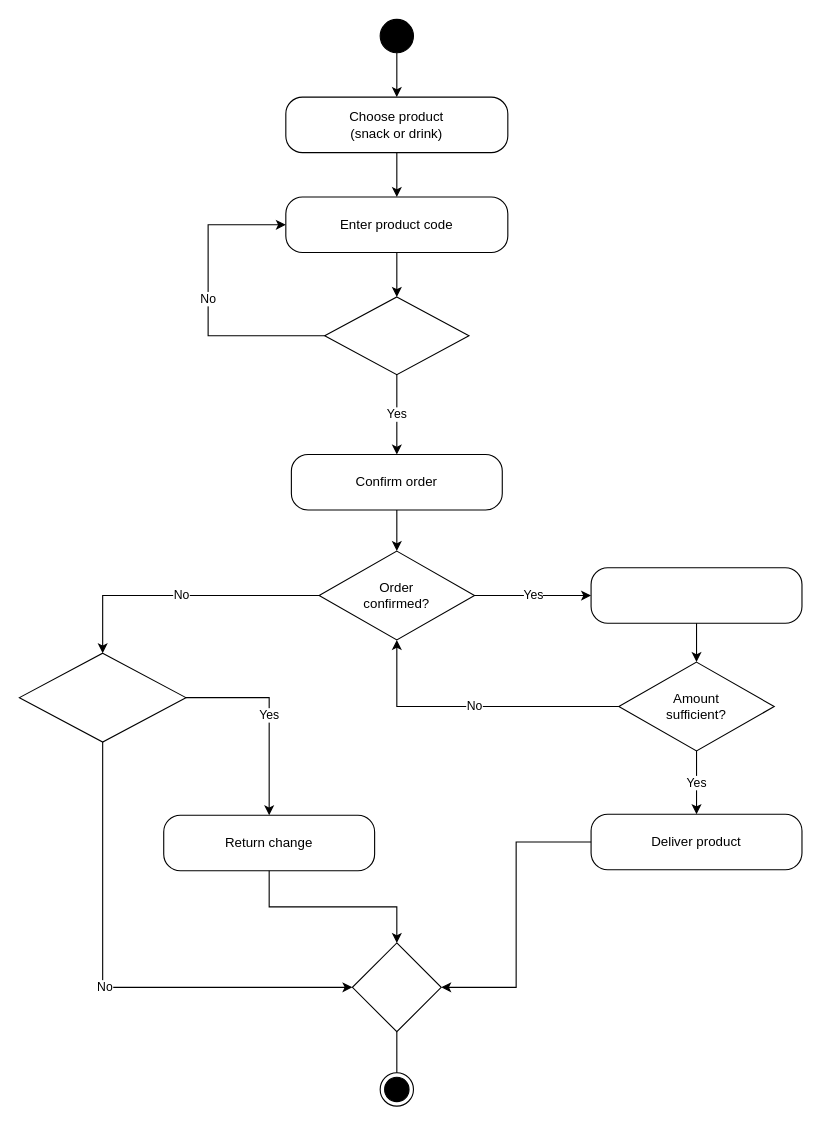
Image size: 821x1126. Some labels were removed from this diagram. The box of each missing label's shape, as (x1, y1, x2, y2) in pixels:
Code exists?: (324, 296, 469, 375)
Insert money: (590, 567, 802, 623)
Money already inserted?: (18, 652, 186, 742)
